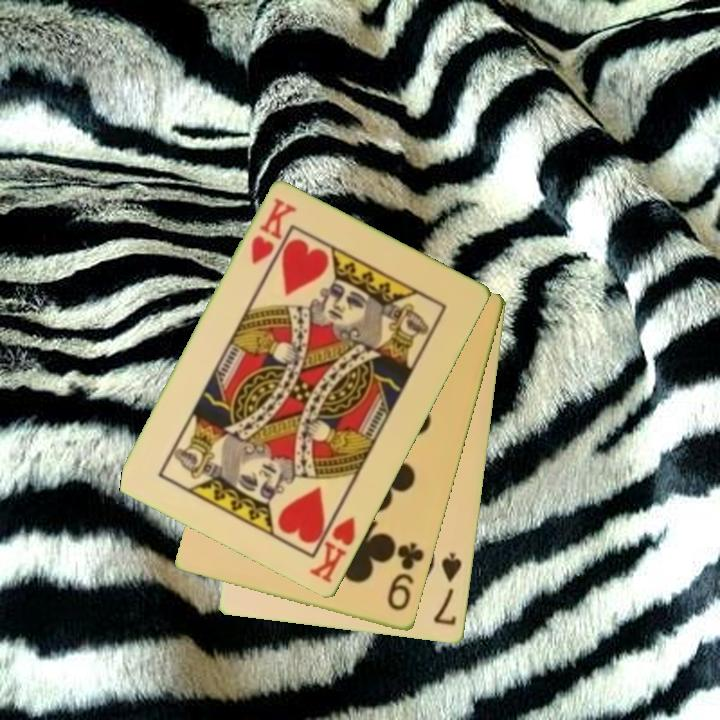7s: (430, 549, 465, 629)
9c: (384, 539, 428, 614)
Kh: (306, 502, 359, 587), (247, 195, 300, 268)
